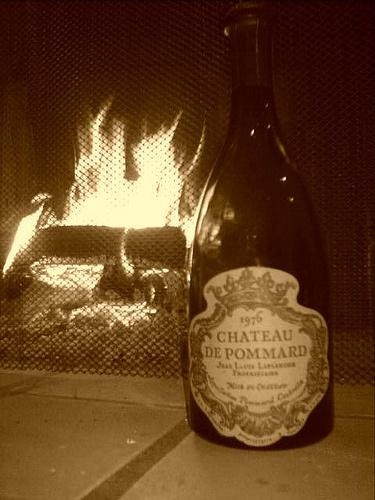bottle: (184, 3, 334, 452)
